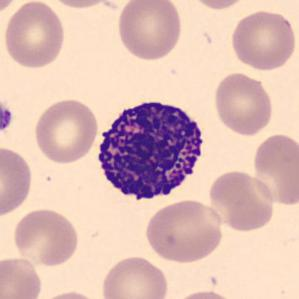Basophil: (89, 90, 213, 209)
Platelets: (0, 101, 15, 133)
RBC: (142, 197, 226, 264), (32, 96, 100, 164), (2, 0, 68, 70), (206, 168, 277, 233), (228, 7, 298, 72), (114, 0, 184, 62), (11, 206, 81, 268), (211, 70, 275, 137), (250, 130, 298, 209), (98, 253, 171, 299), (0, 144, 34, 221), (0, 254, 44, 299), (186, 0, 253, 12), (168, 288, 238, 299), (44, 0, 118, 10), (35, 289, 103, 299), (0, 0, 21, 18)
